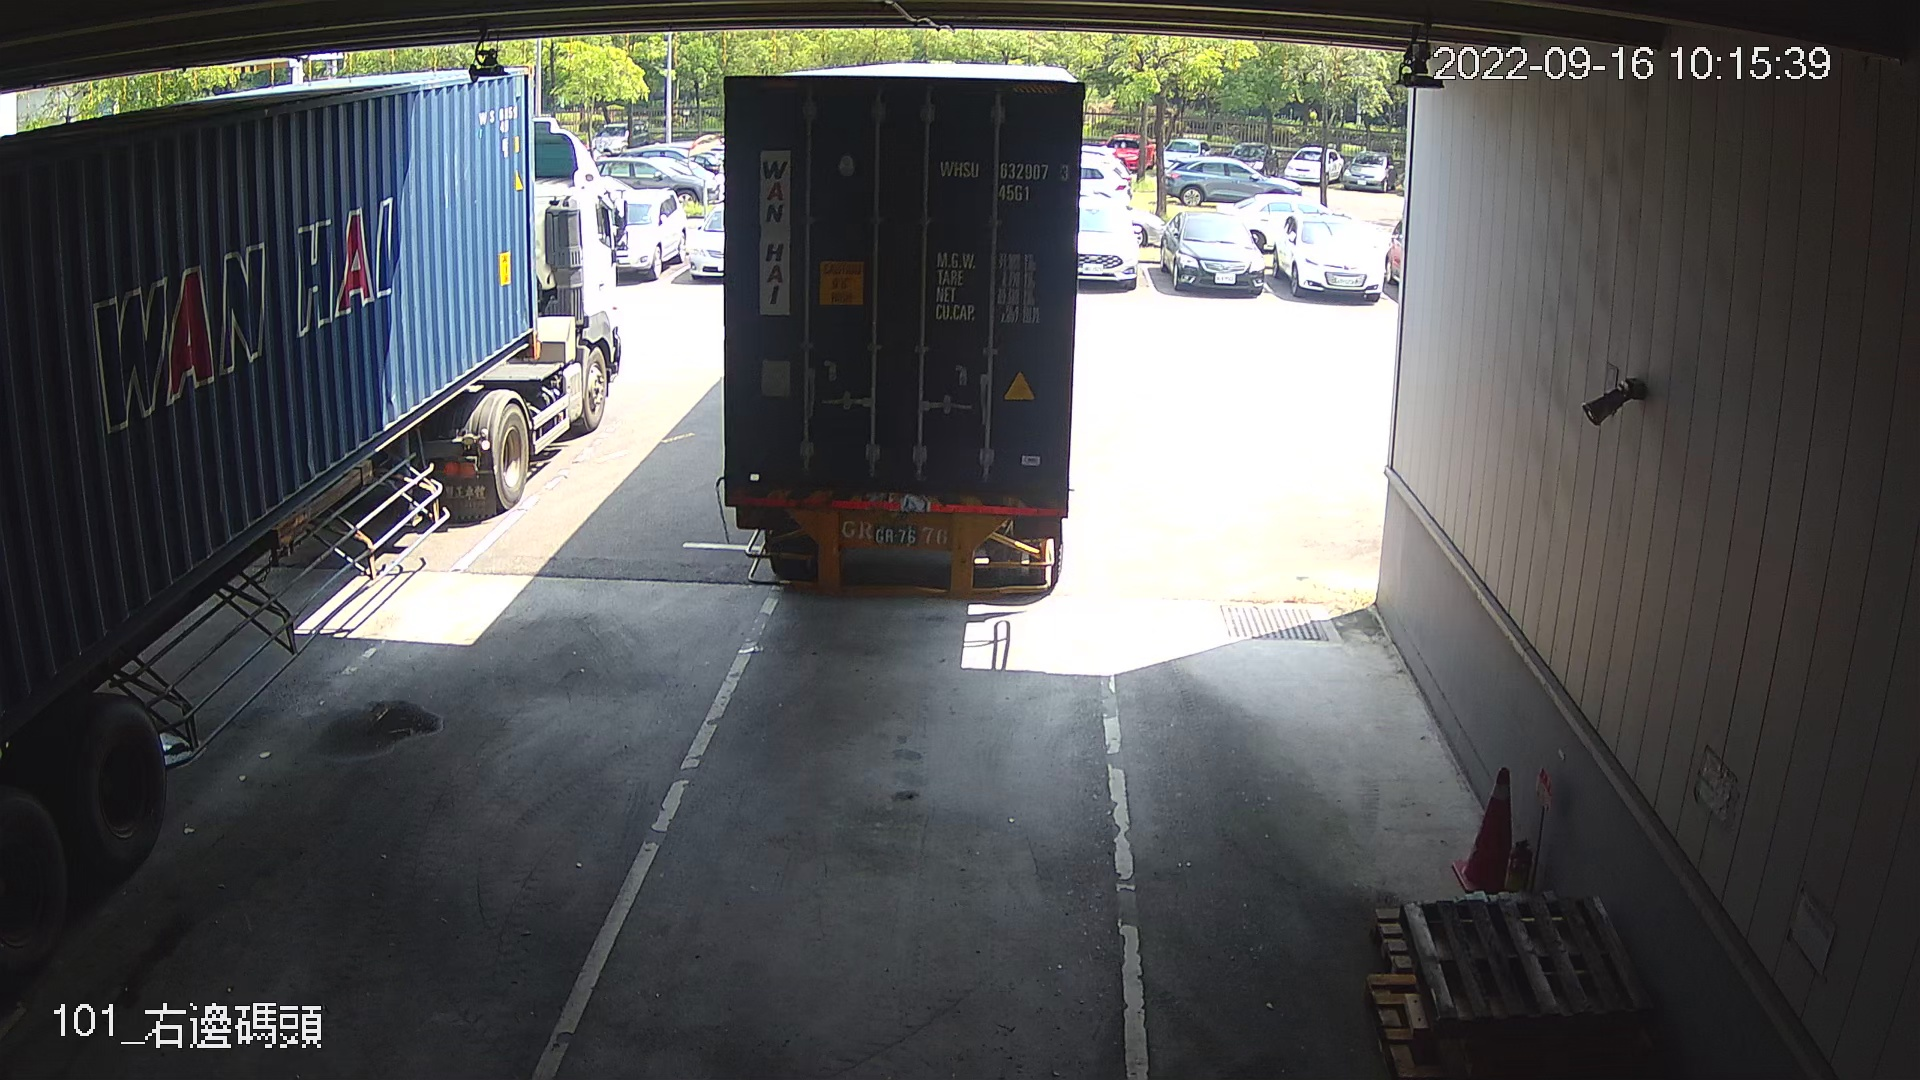container: (931, 152, 1075, 208)
